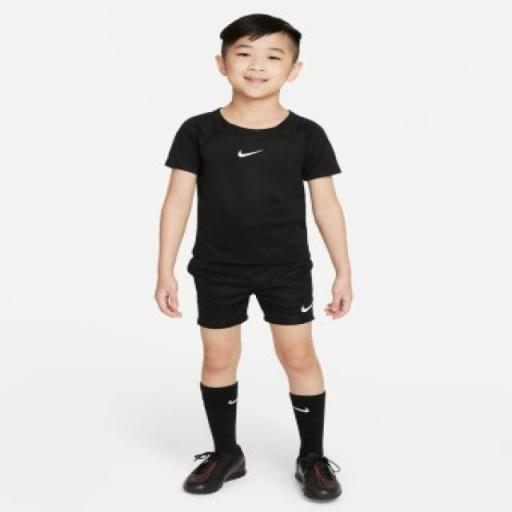Nike: (234, 146, 270, 159)
